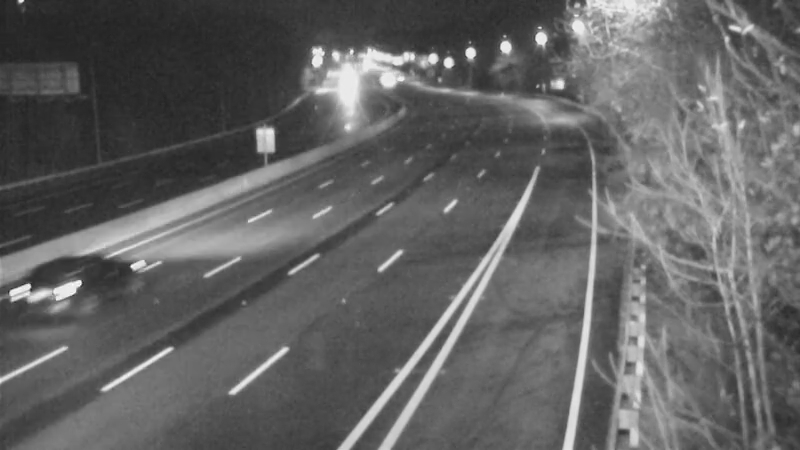vehicle: (3, 255, 83, 335)
